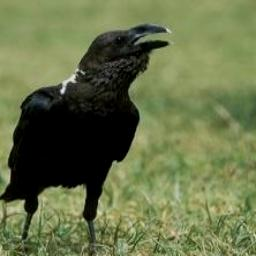Crow: (0, 17, 179, 256)
